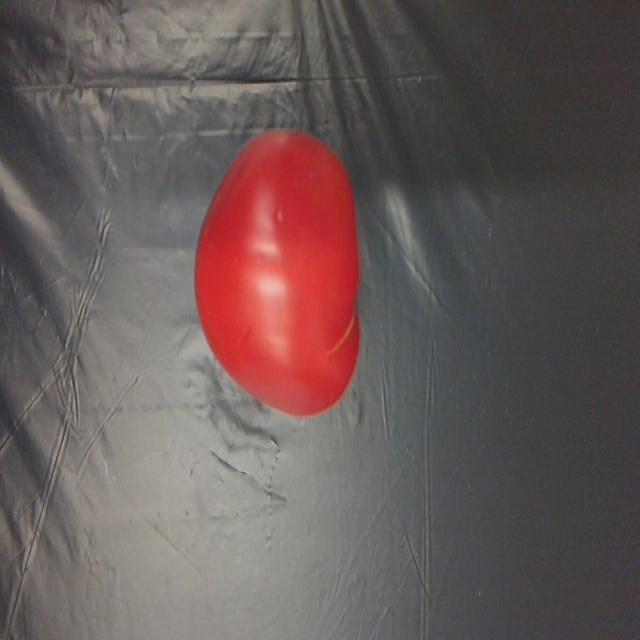kirmizi: (200, 102, 376, 448)
